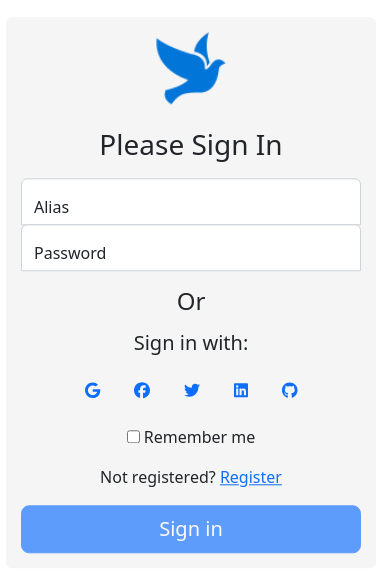
Test: Login › The sign-in button is enabled when both the alias and password fields have text
The image size is (383, 587).
Step 1. Type "COOL ALIAS" into the field labelled "Alias" → (191, 201), box x1=21 y1=178 x2=361 y2=225
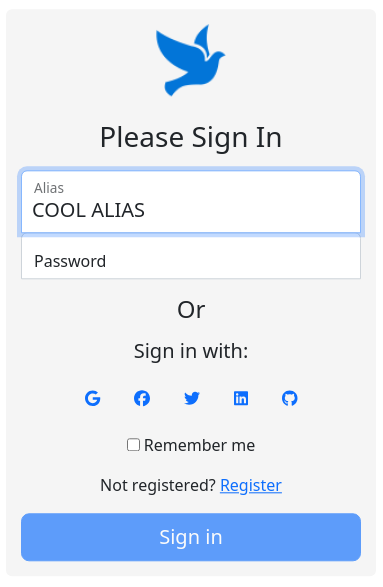
Step 2. Type "COOL PASSWORD" into the password field labelled "Password" → (191, 255), box x1=21 y1=232 x2=361 y2=279
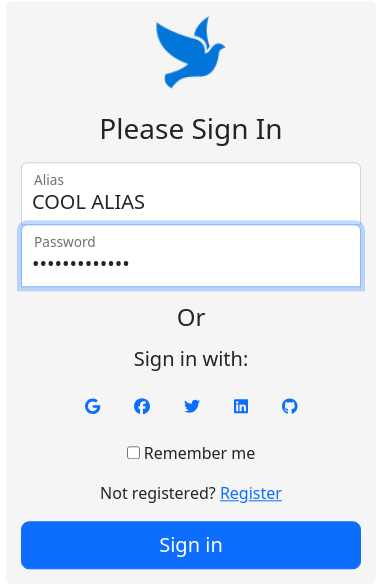
Expected: the button "Sign in" is enabled, x1=21 y1=522 x2=361 y2=570
